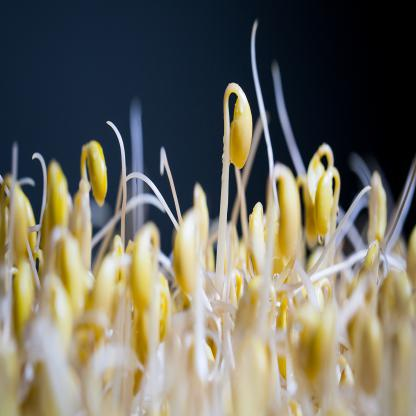bean sprouts: (0, 117, 416, 415)
